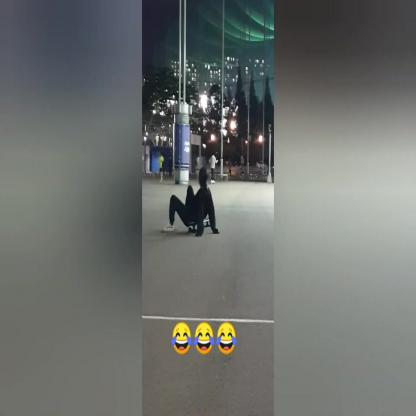Fall_Down: (160, 164, 221, 243)
